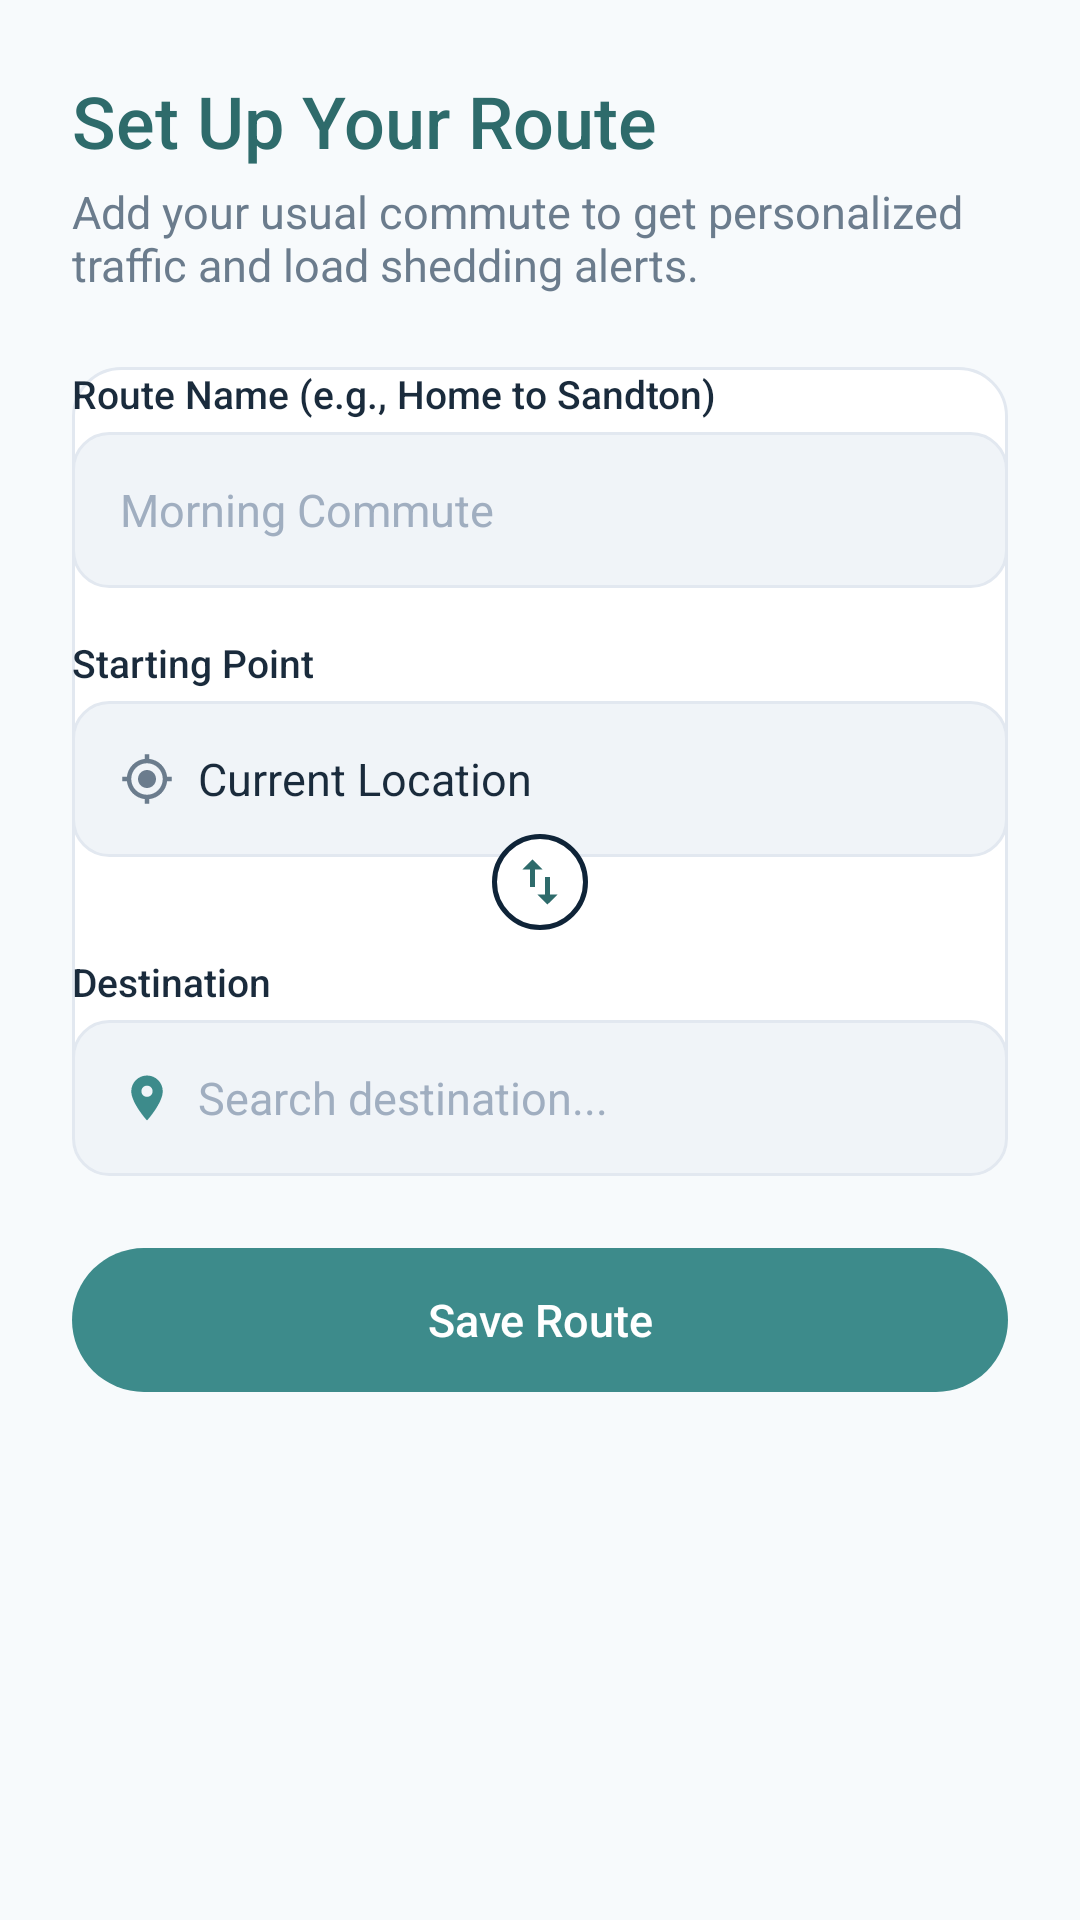

Screen size 1080 × 1920. Icon name, then its box in pixels as (x1, y1, x2, y2):
location pin: (131, 1075, 163, 1120)
swap vert: (492, 834, 588, 930)
